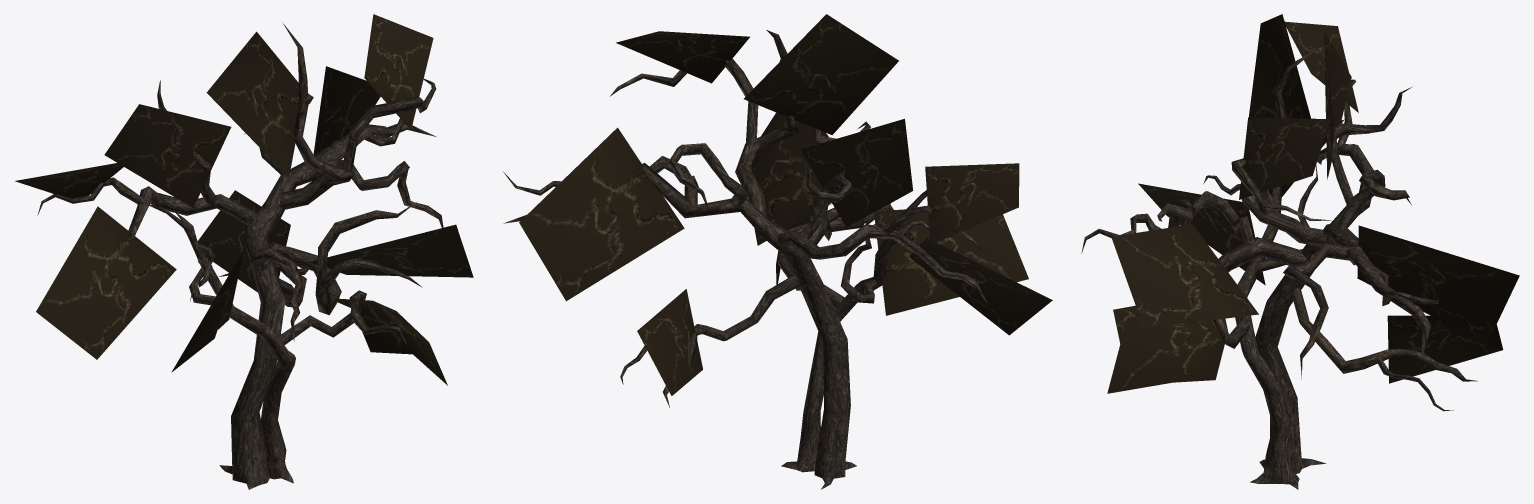
Rendered from longzhuashu_hl_22.fbx.
3 renders of one model, left to right at view 1: azimuth 30°, elevation 25°; view 2: azimuth 150°, elevation 25°; view 3: azimuth 270°, elevation 25°, orthographic. The views are drawn at different scales.
Parts seen in each view (by area): view 1: longzhuashu_hl_22; view 2: longzhuashu_hl_22; view 3: longzhuashu_hl_22.
Boxes of the visible parts, x1=… form: longzhuashu_hl_22: x1=15, y1=14, x2=473, y2=489; longzhuashu_hl_22: x1=503, y1=14, x2=1052, y2=489; longzhuashu_hl_22: x1=1081, y1=14, x2=1519, y2=489.
Size of what is drawn, in the model's own units: 925 by 838 by 728.
